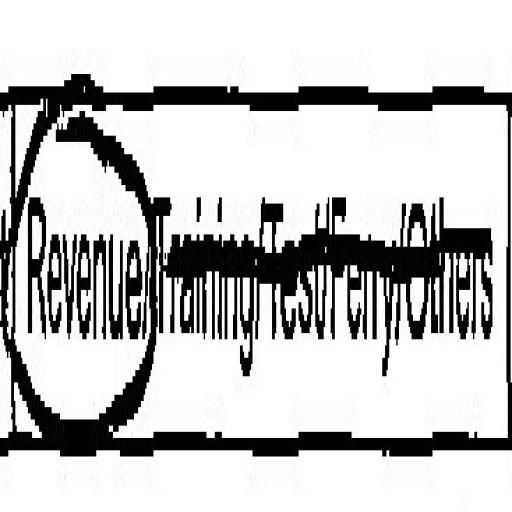check: (12, 0, 154, 512)
